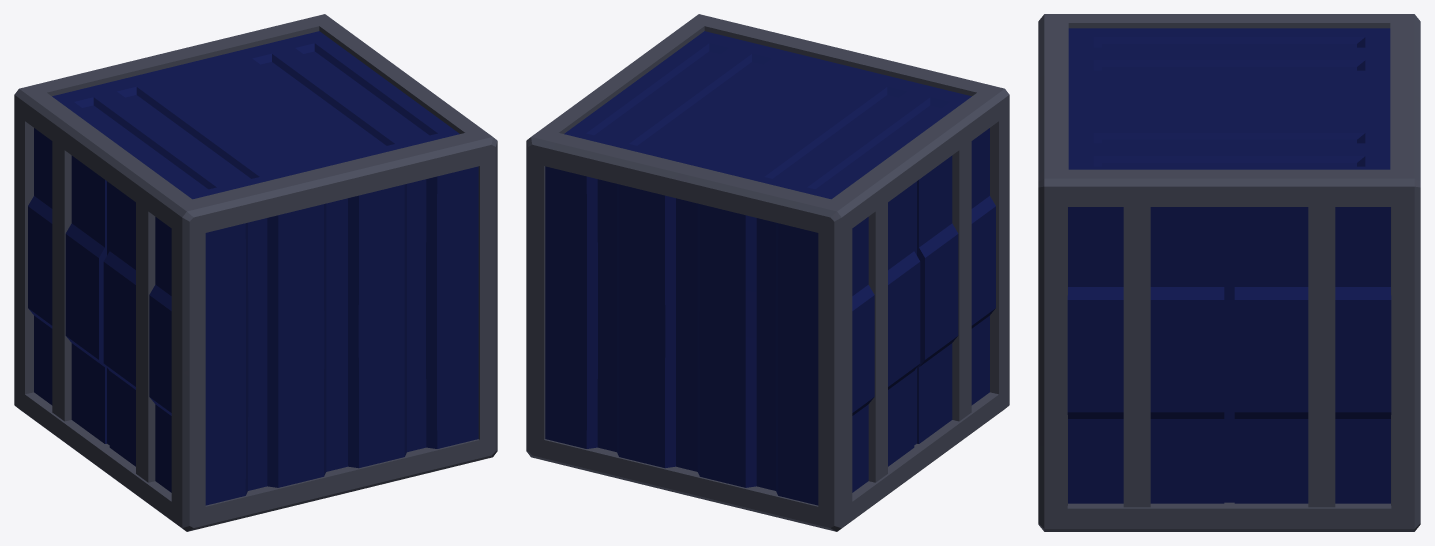
The picture shows the model from 3 angles, left to right: view 1: azimuth 30°, elevation 25°; view 2: azimuth 150°, elevation 25°; view 3: azimuth 270°, elevation 25°; orthographic projection. The views are drawn at different scales.
Visible parts, largest first — view 1: Container_Small.003_Cube.269; view 2: Container_Small.003_Cube.269; view 3: Container_Small.003_Cube.269.
Boxes of the visible parts, x1,y1,x2,y2 form: Container_Small.003_Cube.269: (14, 14, 497, 531); Container_Small.003_Cube.269: (526, 14, 1009, 531); Container_Small.003_Cube.269: (1038, 14, 1420, 531).
Size of the model in its own units: 449 by 436 by 428.
